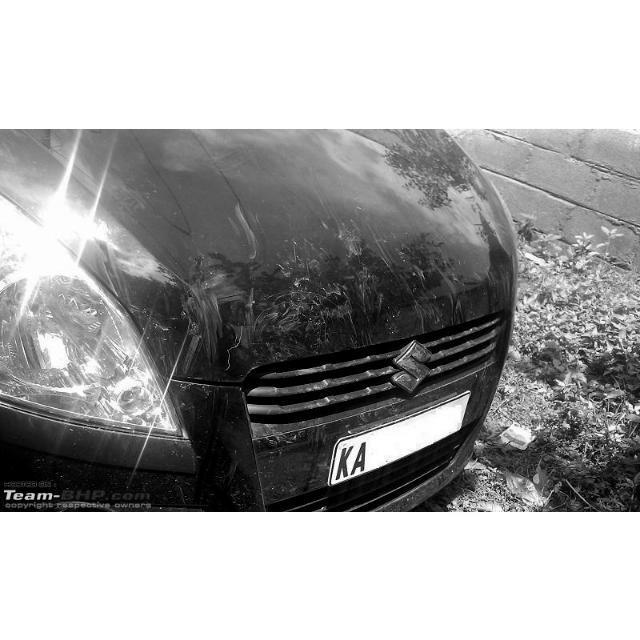bonnet-dent: (0, 128, 512, 414)
